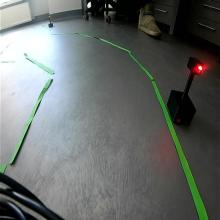red: (188, 56, 204, 75)
